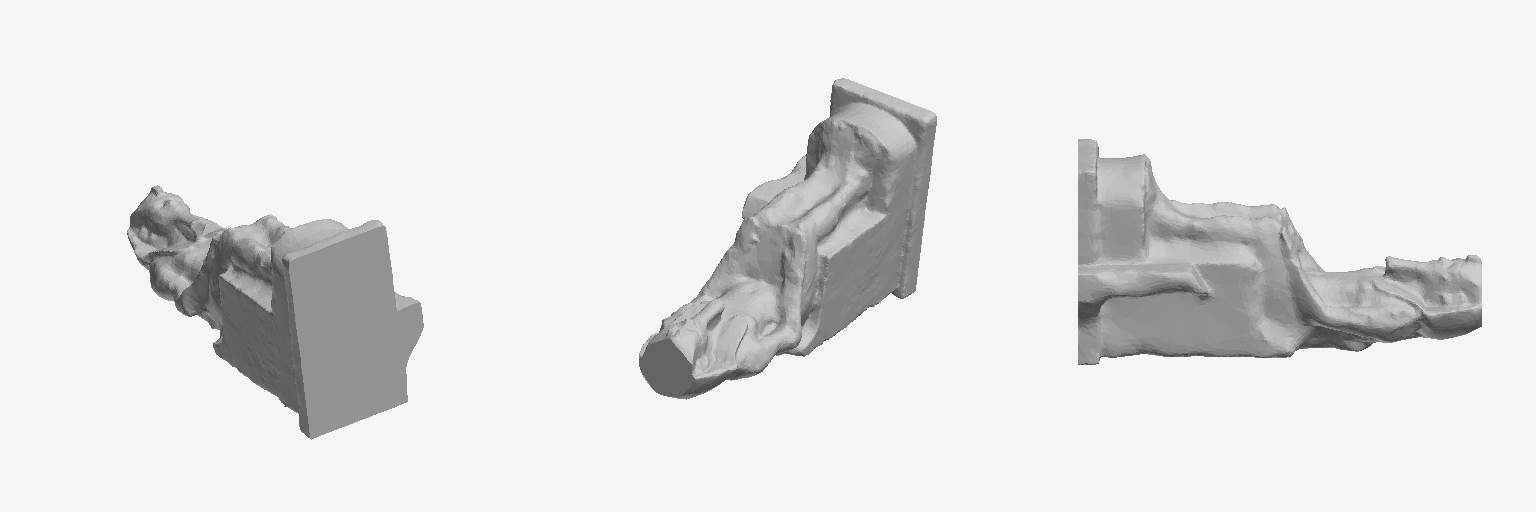
The model's file is sculpt.obj.
3 renders of one model, left to right at view 1: azimuth 30°, elevation 25°; view 2: azimuth 150°, elevation 25°; view 3: azimuth 270°, elevation 25°, orthographic.
Size of the model in its own units: 11.88 by 16.47 by 30.6.